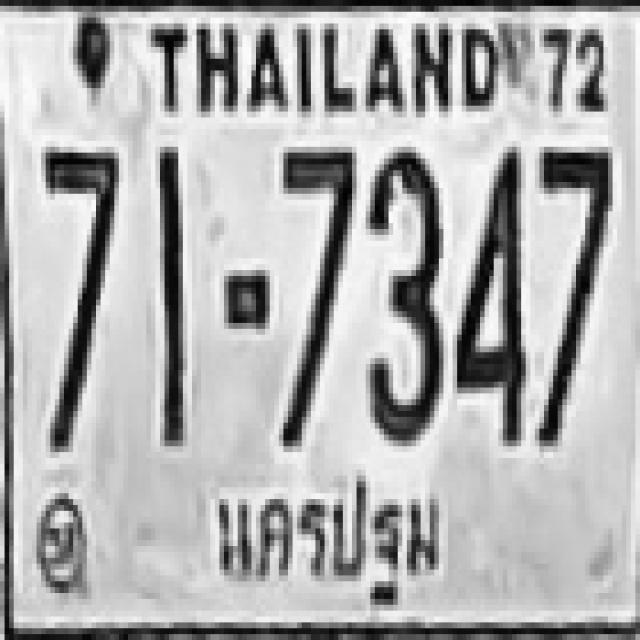3: (366, 147, 439, 440)
4: (453, 141, 521, 440)
7: (41, 144, 119, 332), (535, 141, 608, 329), (279, 141, 352, 317), (535, 144, 608, 308)
NakhonPathom: (206, 463, 447, 618)
